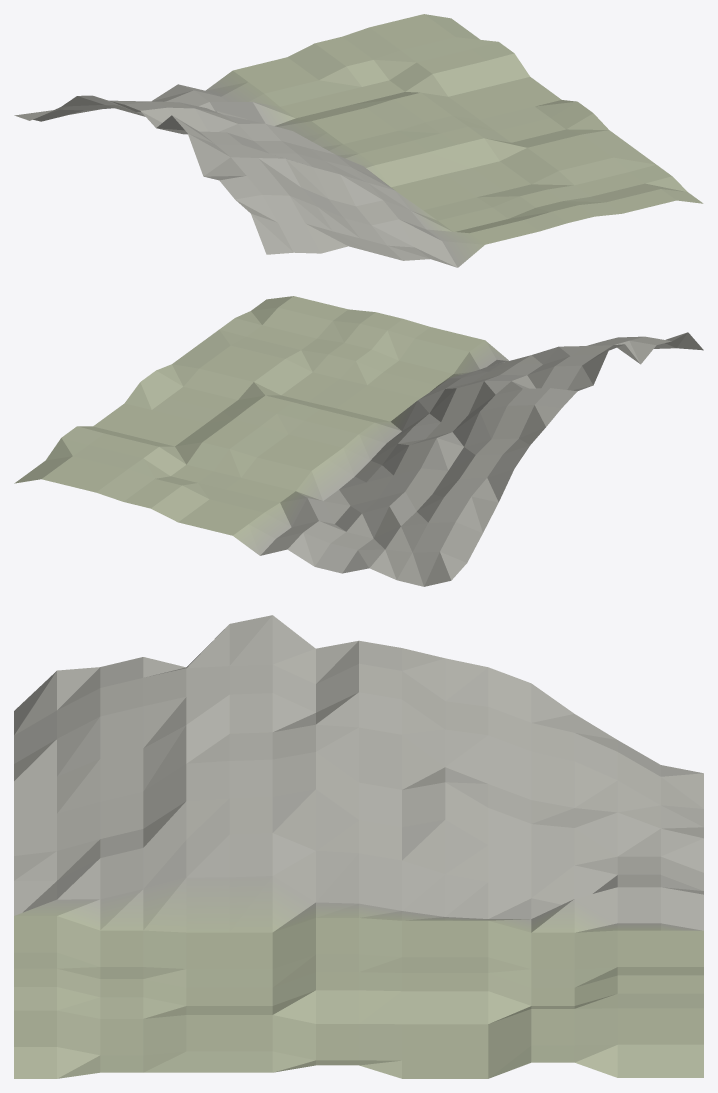
3 renders of one model, top to bottom at view 1: azimuth 30°, elevation 25°; view 2: azimuth 150°, elevation 25°; view 3: azimuth 270°, elevation 25°, orthographic. The views are drawn at different scales.
Size of the model in its own units: 32 by 9.63 by 32.
